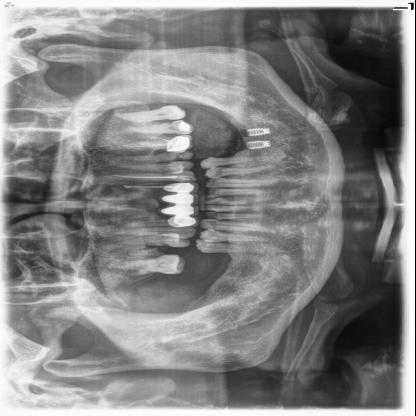Bicon: (243, 139, 276, 152), (244, 126, 275, 136)
